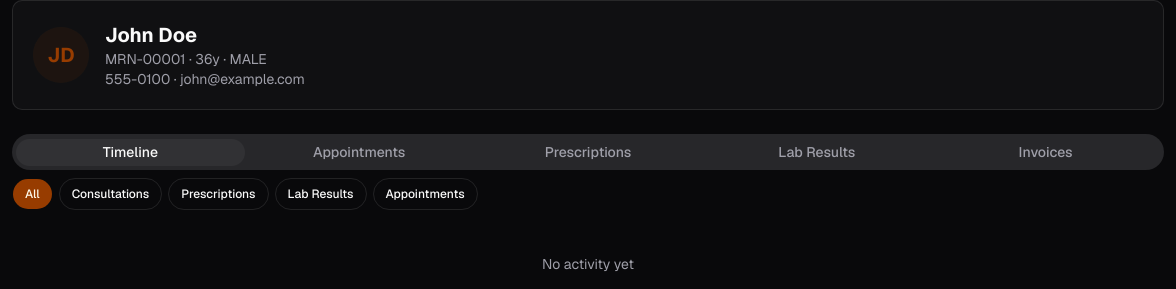
Test case: PatientProfile › renders invoices in table with download button
This screenshot has width=1176, height=289.
Click the tab "Invoices".
click(1046, 152)  # box left=931, top=138, right=1160, bottom=166
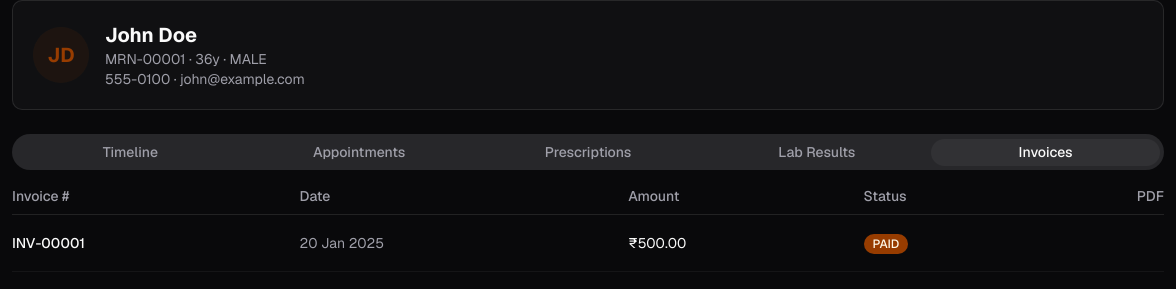
Result: the text "INV-00001" is shown at left=12, top=214, right=300, bottom=272
